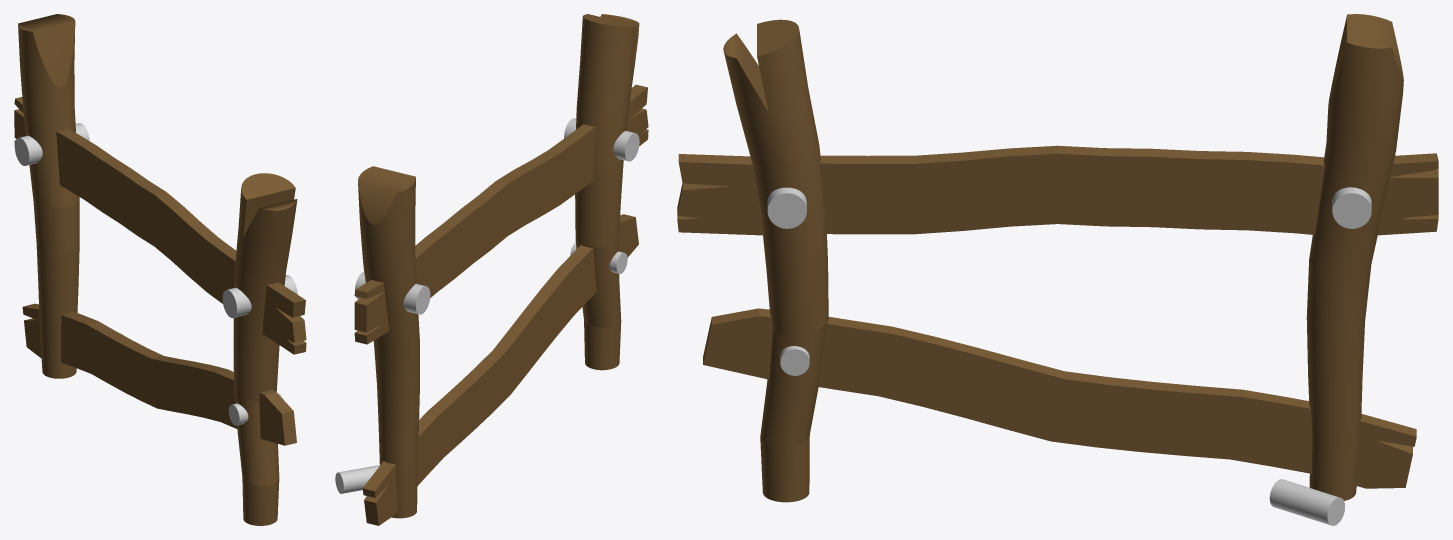
Rendered from fence1.fbx.
3 views of the same model, side by side, from view 1: azimuth 30°, elevation 25°; view 2: azimuth 150°, elevation 25°; view 3: azimuth 270°, elevation 25° (orthographic). The views are drawn at different scales.
Parts seen in each view (by area): view 1: Cylinder.019, Cube.007, Cylinder.018, Cube.008, Cylinder.020, Cylinder.023, Cylinder.021; view 2: Cylinder.019, Cylinder.018, Cube.007, Cube.008, Cylinder.020, Cylinder.022, Cylinder.023, Cylinder.021; view 3: Cube.007, Cube.008, Cylinder.019, Cylinder.018, Cylinder.022, Cylinder.020, Cylinder.023.
Part boxes in pixels (x1,y1,x2,y2): Cylinder.019: (18,14,79,378); Cube.007: (14,97,306,354); Cylinder.018: (233,173,297,525); Cube.008: (22,303,296,445); Cylinder.020: (222,275,297,318); Cylinder.023: (14,123,89,165); Cylinder.021: (228,393,283,425); Cylinder.019: (358,166,419,518); Cylinder.018: (575,14,639,370); Cube.007: (354,84,648,344); Cube.008: (362,214,638,525); Cylinder.020: (564,118,639,161); Cylinder.022: (335,465,379,493); Cylinder.023: (355,271,430,314); Cylinder.021: (570,242,627,273); Cube.007: (677,145,1438,235); Cube.008: (703,308,1416,488); Cylinder.019: (1306,14,1403,500); Cylinder.018: (723,19,828,502); Cylinder.022: (1269,479,1344,525); Cylinder.020: (767,187,806,228); Cylinder.023: (1332,187,1371,228).
Bounding box in the file's own units: 389 × 1319 × 1962.
